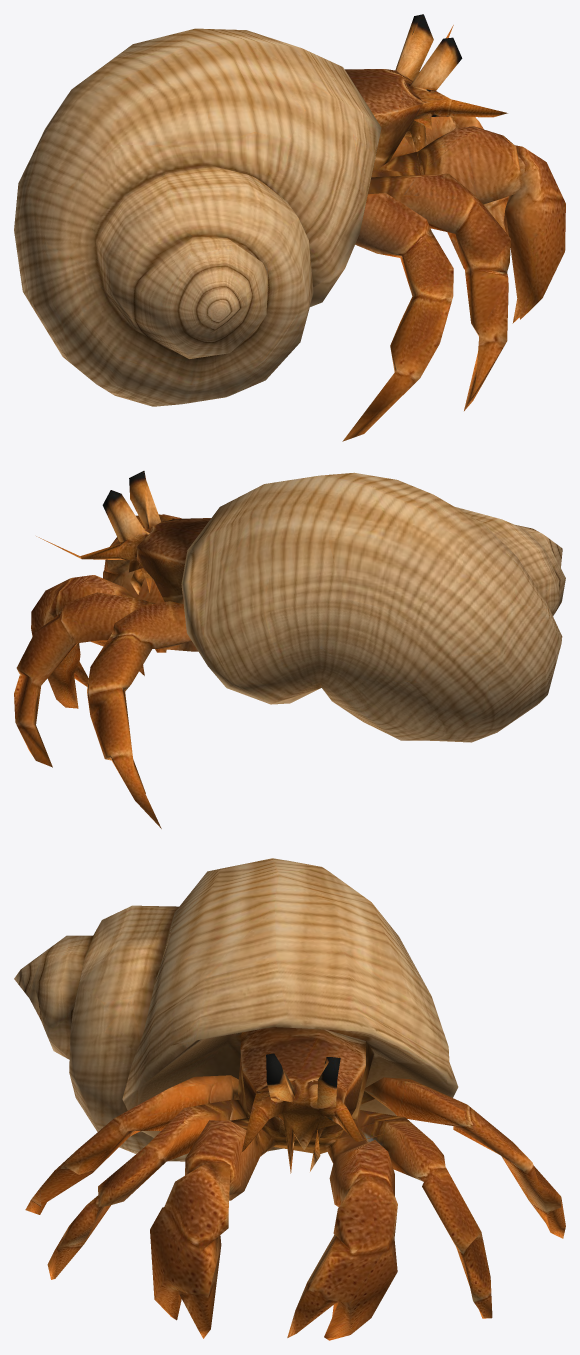
File: cangrejoermitano.fbx
The picture shows the model from 3 angles, top to bottom: view 1: azimuth 30°, elevation 25°; view 2: azimuth 150°, elevation 25°; view 3: azimuth 270°, elevation 25°; orthographic projection. The views are drawn at different scales.
Visible parts, largest first — view 1: cangrejoermitano; view 2: cangrejoermitano; view 3: cangrejoermitano.
Part boxes in pixels (box(x1,y1,x2,y2)): cangrejoermitano: box(14, 14, 565, 441); cangrejoermitano: box(14, 471, 565, 828); cangrejoermitano: box(14, 858, 565, 1340).
Size of the model in its own units: 0.35 by 0.2036 by 0.3153.
Materials: 1 (1 with a texture image).
